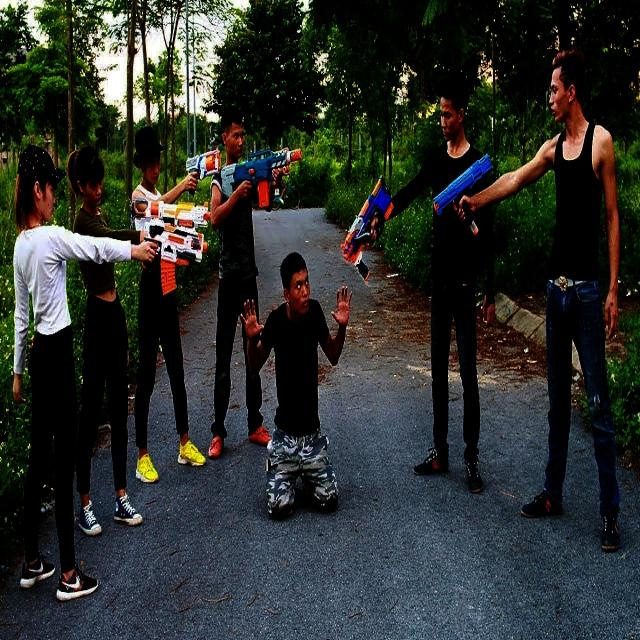Nerf gun: (121, 223, 205, 298), (217, 141, 306, 211), (431, 141, 493, 239), (334, 180, 398, 272), (128, 189, 210, 231), (181, 145, 223, 195)
